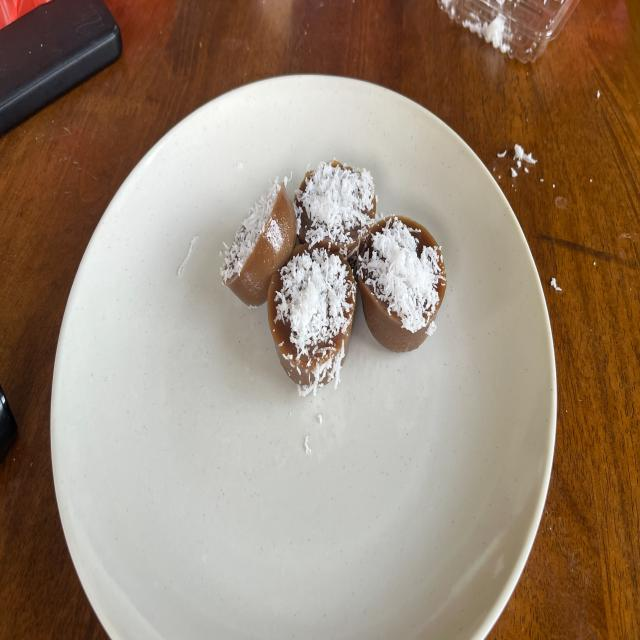Kuih lompang: (268, 244, 356, 396), (358, 216, 446, 351), (221, 178, 298, 307), (294, 160, 376, 264)
